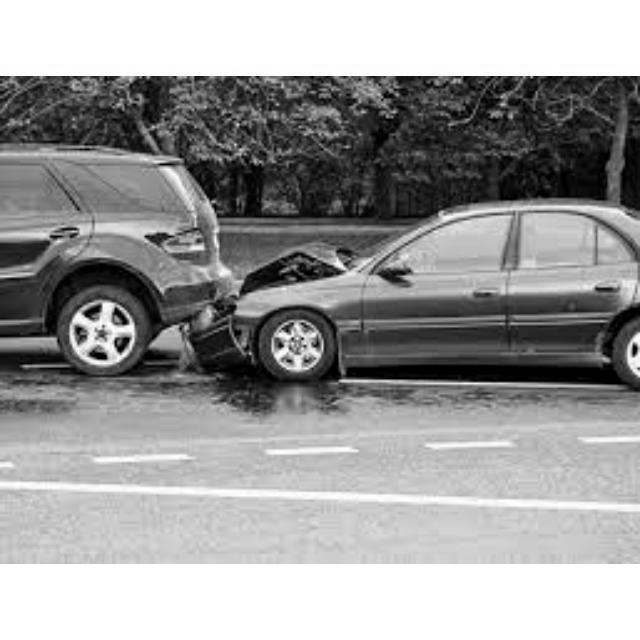bonnet-dent: (244, 242, 345, 299)
front-bumper-dent: (192, 302, 256, 365)
